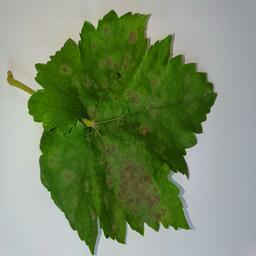Powdery-Mildew: (107, 165, 166, 217), (49, 162, 84, 205), (94, 140, 142, 169), (96, 49, 136, 71), (146, 64, 170, 94), (124, 25, 141, 41), (52, 61, 69, 77), (124, 84, 140, 101), (142, 119, 158, 136)
